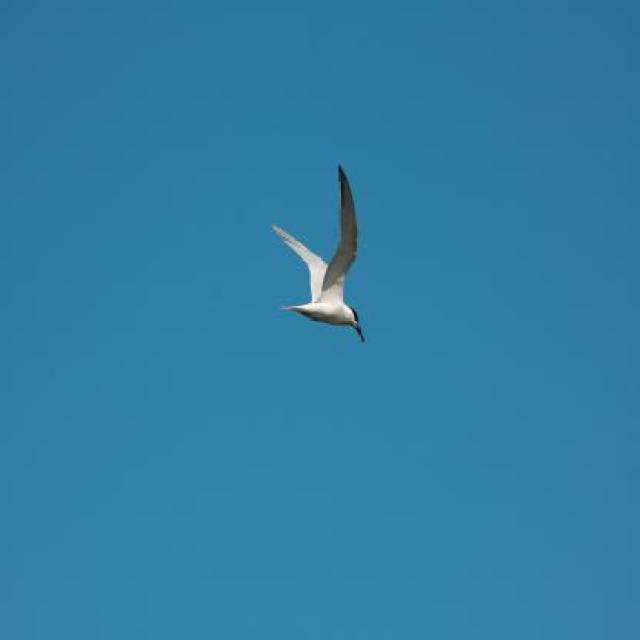bird: (270, 166, 368, 345)
